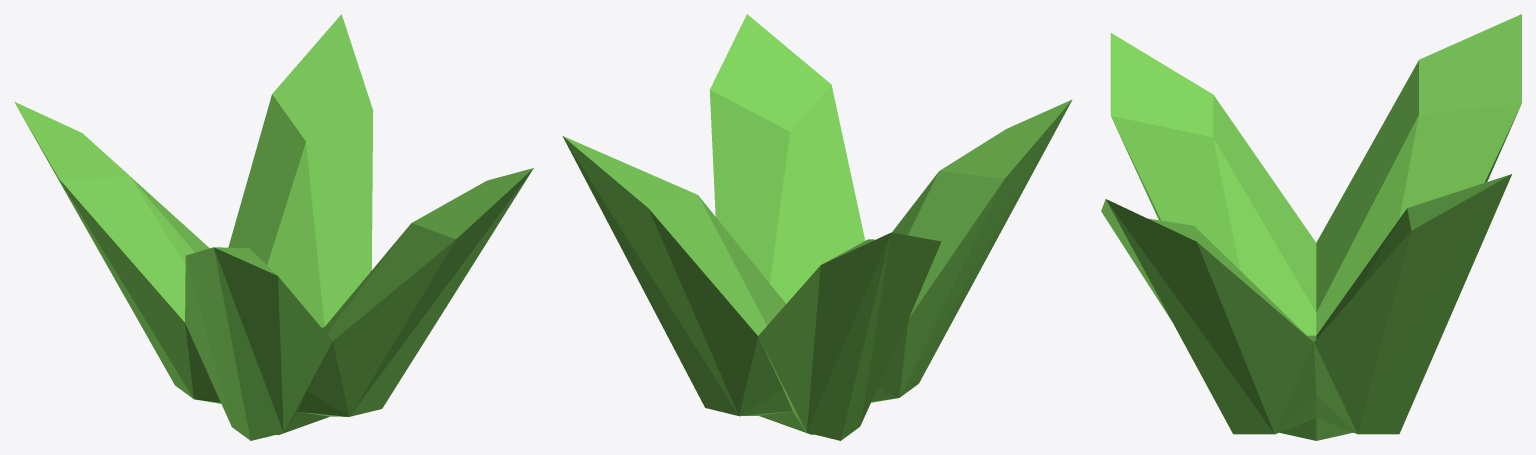
Rendered from mod_Sprout.fbx.
3 renders of one model, left to right at view 1: azimuth 30°, elevation 25°; view 2: azimuth 150°, elevation 25°; view 3: azimuth 270°, elevation 25°, orthographic. The views are drawn at different scales.
Visible parts, largest first — view 1: Sprout; view 2: Sprout; view 3: Sprout.
Boxes of the visible parts, box(x1,y1,x2,y2) form: Sprout: box(14, 14, 533, 440); Sprout: box(562, 14, 1072, 440); Sprout: box(1101, 14, 1521, 440).
Size of the model in its own units: 204 by 187 by 205.
